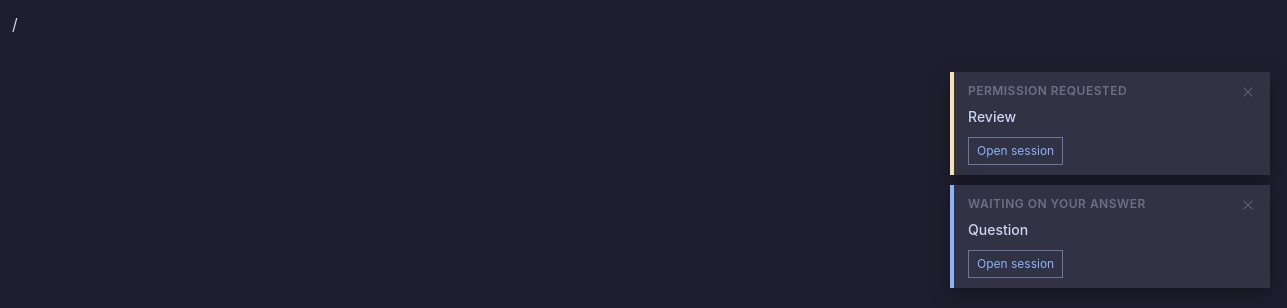
Test: PromptToastNotify › opens the target session for permissions and questions
Click the button "Open session" below "Permission requested". click: point(1016, 151)
box: [968,137,1063,165]
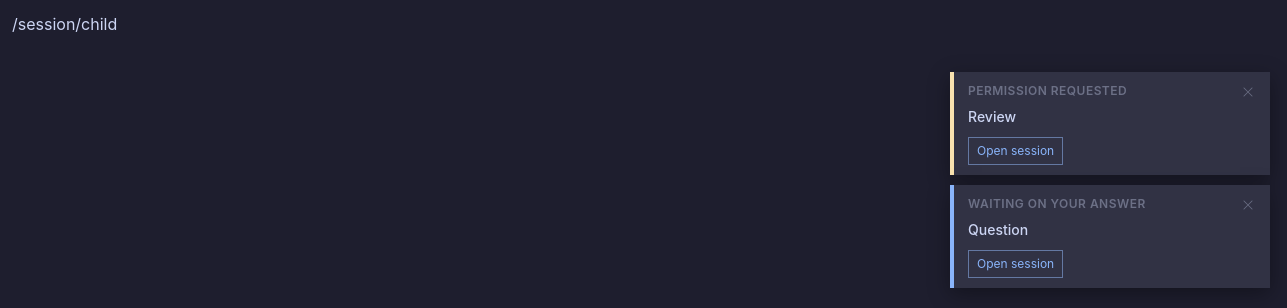
expect the text named "Current route" reads "/session/child": met, box [12,14,117,34]
Click the button "Open session" below "Waiting on your answer". click: point(1016, 264)
box: [968,250,1063,278]
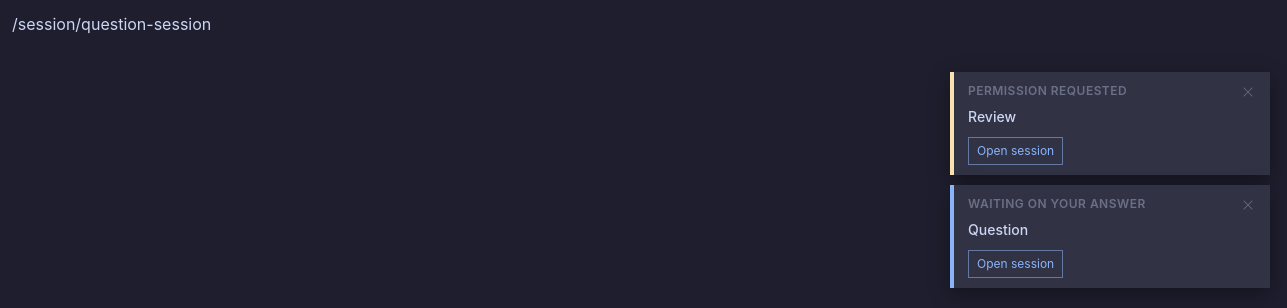
expect the text named "Current route" reads "/session/question-session": met, box [12,14,211,34]
